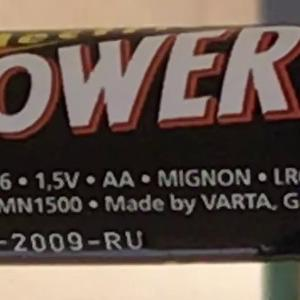1,5V: (27, 163, 88, 197)
